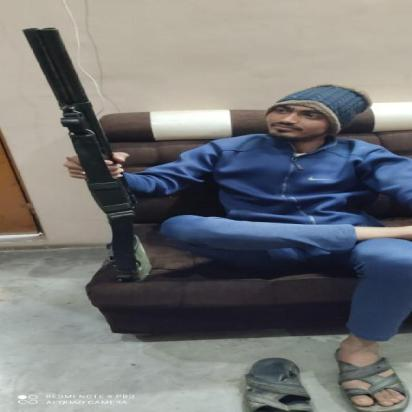Gun: (18, 26, 157, 286)
